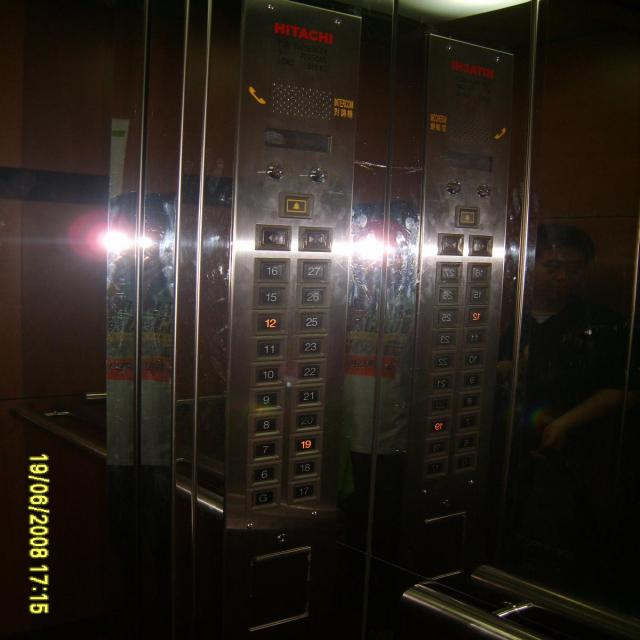10: (248, 360, 286, 388)
11: (248, 334, 288, 362)
12: (250, 309, 290, 336)
15: (251, 283, 290, 309)
16: (252, 257, 291, 283)
17: (286, 477, 321, 504)
18: (287, 454, 322, 481)
19: (288, 430, 322, 458)
20: (289, 406, 323, 432)
21: (287, 382, 325, 408)
22: (289, 357, 326, 384)
23: (290, 333, 328, 360)
25: (294, 308, 329, 334)
26: (295, 283, 330, 308)
27: (296, 258, 331, 284)
6: (245, 458, 282, 488)
7: (245, 435, 283, 463)
8: (247, 410, 284, 438), (456, 389, 482, 412)
9: (248, 386, 286, 412)
G: (245, 483, 280, 512)
alarm: (278, 191, 313, 220), (454, 205, 480, 229)
blur: (440, 496, 454, 509)
close: (297, 224, 333, 252), (436, 232, 464, 256)
keyhole: (265, 163, 285, 179), (308, 167, 328, 183), (445, 180, 461, 195), (476, 183, 491, 197), (275, 533, 290, 544)
led: (264, 127, 331, 154), (444, 151, 492, 172)
open: (254, 223, 292, 251), (468, 234, 493, 257)
unknown: (430, 327, 460, 351), (426, 392, 454, 417), (434, 260, 463, 284), (432, 305, 461, 329), (427, 370, 456, 394), (422, 435, 451, 459), (450, 431, 480, 454), (454, 409, 481, 434), (451, 450, 479, 474), (429, 349, 458, 372), (457, 347, 486, 370), (424, 414, 451, 438), (421, 455, 448, 479), (464, 282, 490, 306), (462, 304, 488, 328), (460, 326, 487, 349), (433, 284, 461, 306), (465, 261, 491, 284), (458, 368, 483, 391)
